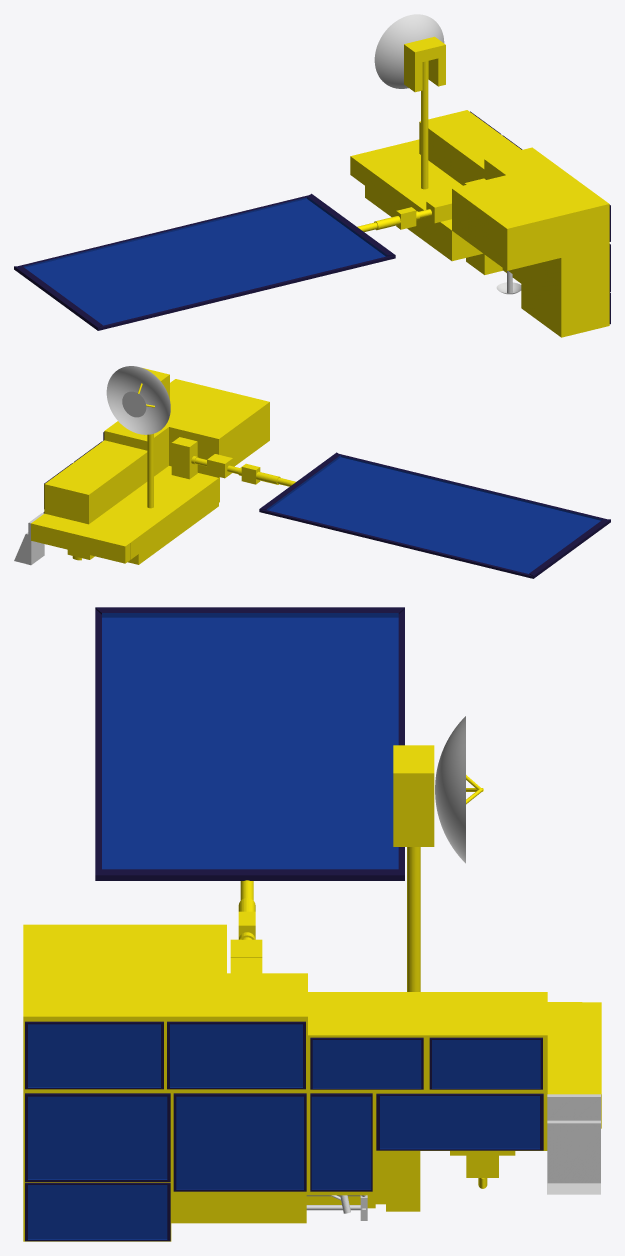
The model's file is satelite.glb.
3 renders of one model, top to bottom at view 1: azimuth 30°, elevation 25°; view 2: azimuth 150°, elevation 25°; view 3: azimuth 270°, elevation 25°, orthographic. The views are drawn at different scales.
Visible parts, largest first — view 1: satelite; view 2: satelite; view 3: satelite.
Part boxes in pixels (left/top/right/bottom): satelite: left=14, top=14, right=610, bottom=337; satelite: left=14, top=366, right=610, bottom=578; satelite: left=23, top=607, right=601, bottom=1241.
Bounding box in the file's own units: 13.78 × 6.25 × 7.33.
